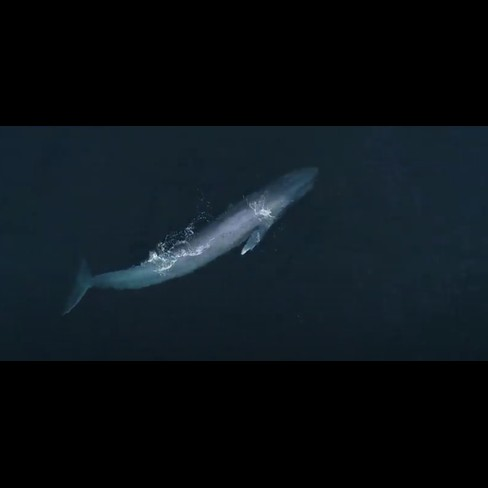bluewhale: (53, 161, 324, 320)
